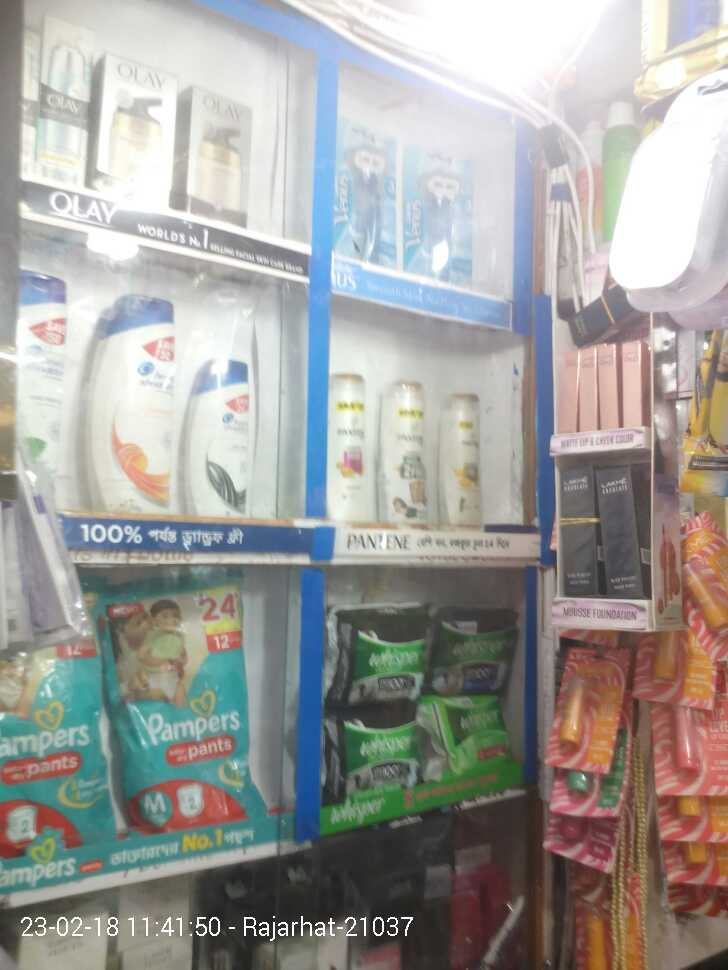venus: (338, 120, 396, 271), (402, 147, 473, 270)
